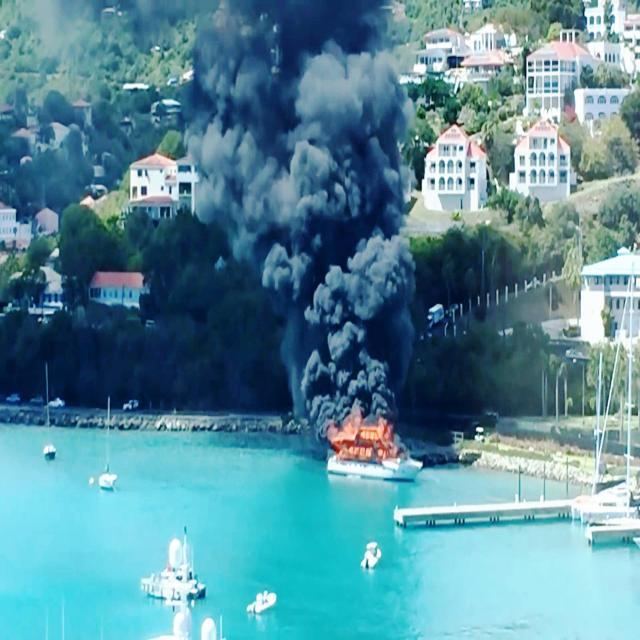Smoke: (225, 1, 400, 262), (286, 198, 404, 409)
